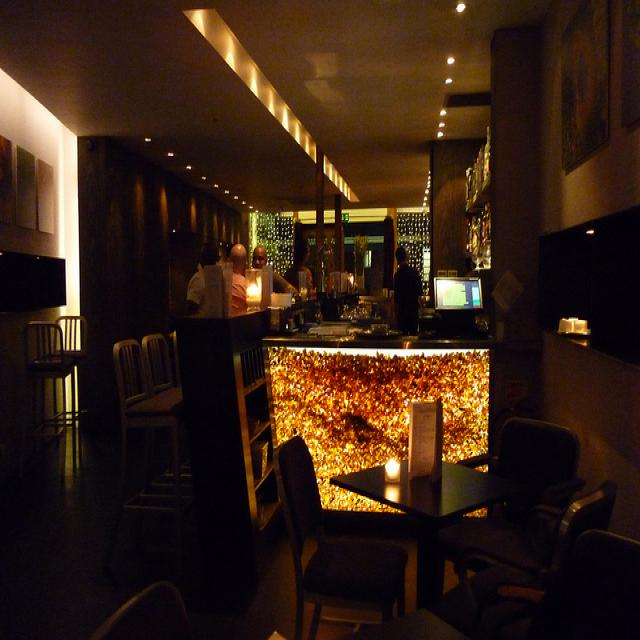People: (378, 235, 426, 339), (227, 224, 263, 319), (188, 223, 223, 320), (254, 227, 286, 314), (295, 228, 331, 303)
Table: (337, 423, 502, 640)
chair: (264, 421, 381, 628), (531, 464, 635, 640), (488, 398, 599, 534), (21, 288, 68, 433), (53, 290, 94, 420), (135, 304, 174, 416), (104, 334, 143, 443)
